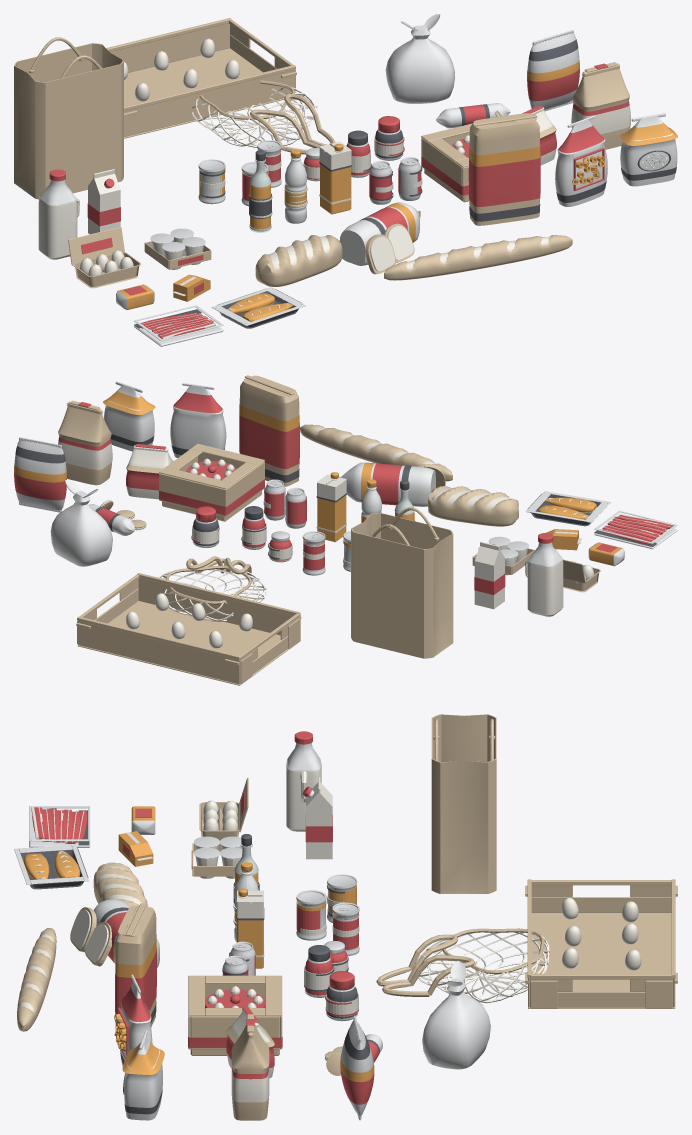
Rendered from fresh-produce-and-groceries-weekly-shop-unpacked-25462abc__24461.glb.
3 renders of one model, top to bottom at view 1: azimuth 30°, elevation 25°; view 2: azimuth 150°, elevation 25°; view 3: azimuth 270°, elevation 25°, orthographic. The views are drawn at different scales.
Parts seen in each view (by area): view 1: 000-paper-grocery-bag/0, 003-cardboard-produce-tray/0, 002-plastic-produce-bag/0, 031-baguette/0, 033-cereal-box/0, 033-cereal-box/1, 030-bloomer-loaf/0, 001-string-shopping-bag/0, 036-flour-bag/0, 035-rice-bag/0, 003-cardboard-produce-tray/1, 029-cake-box/0 (+41 smaller); view 2: 000-paper-grocery-bag/0, 003-cardboard-produce-tray/0, 029-cake-box/0, 002-plastic-produce-bag/0, 003-cardboard-produce-tray/1, 030-bloomer-loaf/0, 036-flour-bag/0, 031-baguette/0, 033-cereal-box/0, 034-pasta-bag/0, 033-cereal-box/1, 010-milk-bottle/0 (+30 smaller); view 3: 003-cardboard-produce-tray/0, 000-paper-grocery-bag/0, 029-cake-box/0, 002-plastic-produce-bag/0, 003-cardboard-produce-tray/1, 001-string-shopping-bag/0, 001-string-shopping-bag/1, 036-flour-bag/0, 033-cereal-box/0, 031-baguette/0, 035-rice-bag/0, 016-bacon-pack/1 (+24 smaller).
Part boxes in pixels (x1=…): 000-paper-grocery-bag/0: x1=14, y1=43, x2=123, y2=199; 003-cardboard-produce-tray/0: x1=110, y1=23, x2=295, y2=138; 002-plastic-produce-bag/0: x1=385, y1=14, x2=455, y2=103; 031-baguette/0: x1=384, y1=235, x2=572, y2=280; 033-cereal-box/0: x1=469, y1=113, x2=540, y2=225; 033-cereal-box/1: x1=468, y1=157, x2=540, y2=206; 030-bloomer-loaf/0: x1=255, y1=235, x2=342, y2=286; 001-string-shopping-bag/0: x1=192, y1=86, x2=317, y2=147; 036-flour-bag/0: x1=572, y1=62, x2=630, y2=149; 035-rice-bag/0: x1=620, y1=113, x2=677, y2=186; 003-cardboard-produce-tray/1: x1=106, y1=18, x2=296, y2=116; 029-cake-box/0: x1=421, y1=123, x2=471, y2=202; 000-paper-grocery-bag/0: x1=351, y1=512, x2=453, y2=658; 003-cardboard-produce-tray/0: x1=77, y1=578, x2=300, y2=685; 029-cake-box/0: x1=159, y1=443, x2=264, y2=521; 002-plastic-produce-bag/0: x1=50, y1=480, x2=112, y2=566; 003-cardboard-produce-tray/1: x1=76, y1=573, x2=301, y2=683; 030-bloomer-loaf/0: x1=428, y1=486, x2=518, y2=526; 036-flour-bag/0: x1=58, y1=400, x2=111, y2=485; 031-baguette/0: x1=300, y1=424, x2=452, y2=481; 033-cereal-box/0: x1=239, y1=375, x2=299, y2=486; 034-pasta-bag/0: x1=170, y1=383, x2=226, y2=457; 033-cereal-box/1: x1=239, y1=415, x2=299, y2=469; 010-milk-bottle/0: x1=525, y1=558, x2=563, y2=616; 003-cardboard-produce-tray/0: x1=528, y1=885, x2=675, y2=1008; 000-paper-grocery-bag/0: x1=431, y1=714, x2=496, y2=893; 029-cake-box/0: x1=188, y1=975, x2=282, y2=1055; 002-plastic-produce-bag/0: x1=422, y1=960, x2=490, y2=1069; 003-cardboard-produce-tray/1: x1=525, y1=879, x2=677, y2=1008; 001-string-shopping-bag/0: x1=415, y1=932, x2=549, y2=1003; 001-string-shopping-bag/1: x1=376, y1=928, x2=544, y2=996; 036-flour-bag/0: x1=231, y1=1014, x2=269, y2=1120; 033-cereal-box/0: x1=115, y1=903, x2=156, y2=1039; 031-baguette/0: x1=17, y1=928, x2=56, y2=1031; 035-rice-bag/0: x1=124, y1=1030, x2=162, y2=1120; 016-bacon-pack/1: x1=32, y1=807, x2=87, y2=843.
Size of the model in its own units: 1.92 by 0.4329 by 1.74.
